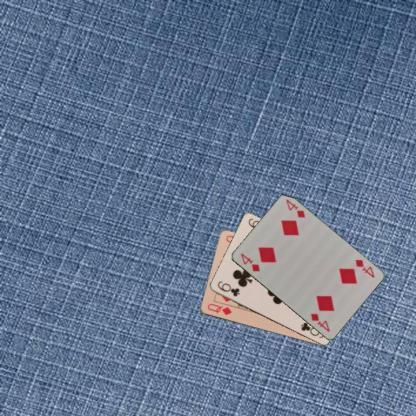4d: (352, 257, 376, 279), (238, 250, 260, 273)
6c: (214, 278, 241, 298)
Qd: (204, 301, 233, 317)
